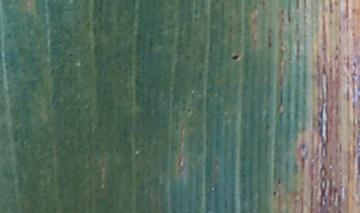tarspot: (231, 53, 239, 61), (267, 37, 273, 47), (271, 189, 278, 197), (67, 52, 74, 58), (277, 177, 282, 185), (186, 106, 191, 113), (265, 123, 270, 130)
